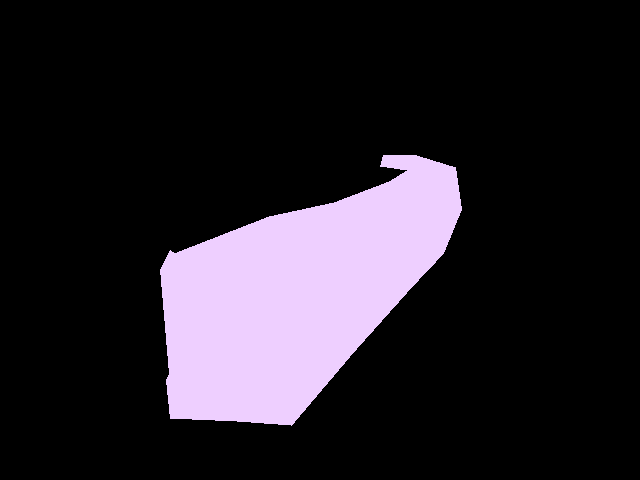Train: (160, 155, 461, 426)
